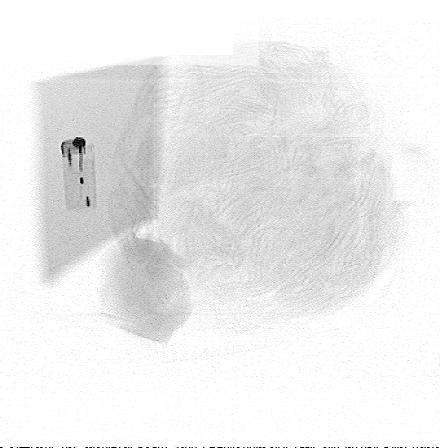Lighter: (62, 136, 97, 213)
